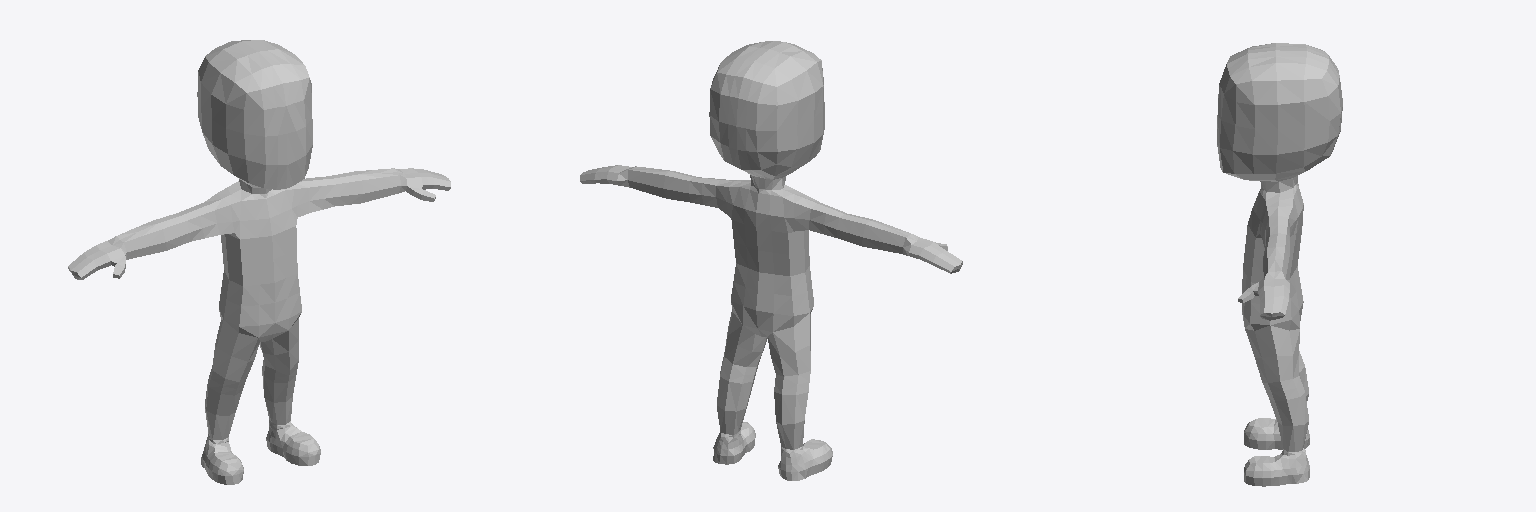
File: enemy_0.obj
3 renders of one model, left to right at view 1: azimuth 30°, elevation 25°; view 2: azimuth 150°, elevation 25°; view 3: azimuth 270°, elevation 25°, orthographic.
Parts seen in each view (by area): view 1: characterMedium; view 2: characterMedium; view 3: characterMedium.
Boxes of the visible parts, <box> form: characterMedium: <box>68,40,450,484</box>; characterMedium: <box>580,41,962,480</box>; characterMedium: <box>1217,43,1342,486</box>.
Size of the model in its own units: 3.62 by 3.76 by 1.05.